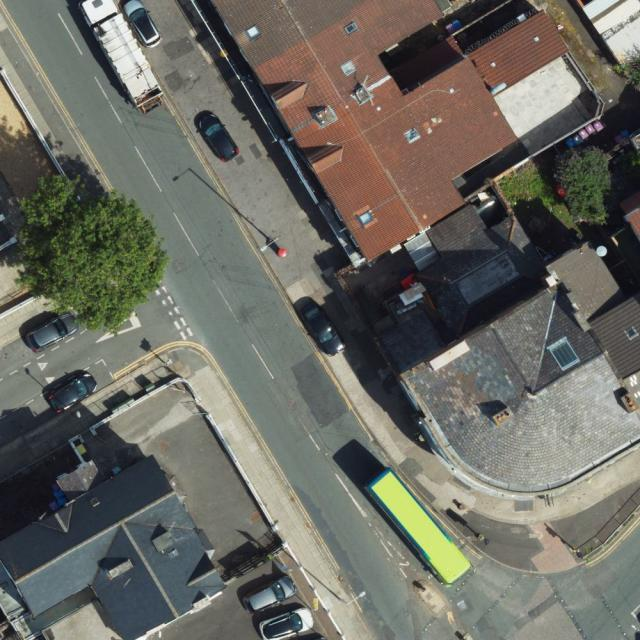roof: (209, 0, 568, 266), (399, 239, 640, 498), (0, 448, 217, 640), (629, 207, 640, 240)
skylight: (548, 336, 584, 374), (242, 21, 265, 41), (356, 206, 377, 227), (402, 124, 423, 144), (622, 323, 640, 342), (343, 19, 361, 37), (88, 496, 103, 508)
